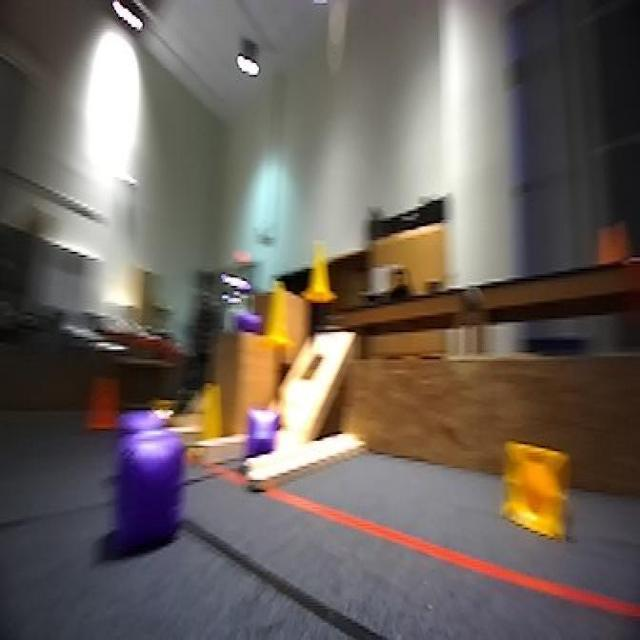frc_cone: (500, 431, 582, 555), (307, 232, 341, 304), (270, 294, 295, 350), (201, 378, 223, 439)
frc_cube: (120, 428, 193, 546), (246, 407, 283, 453), (228, 306, 270, 339)
